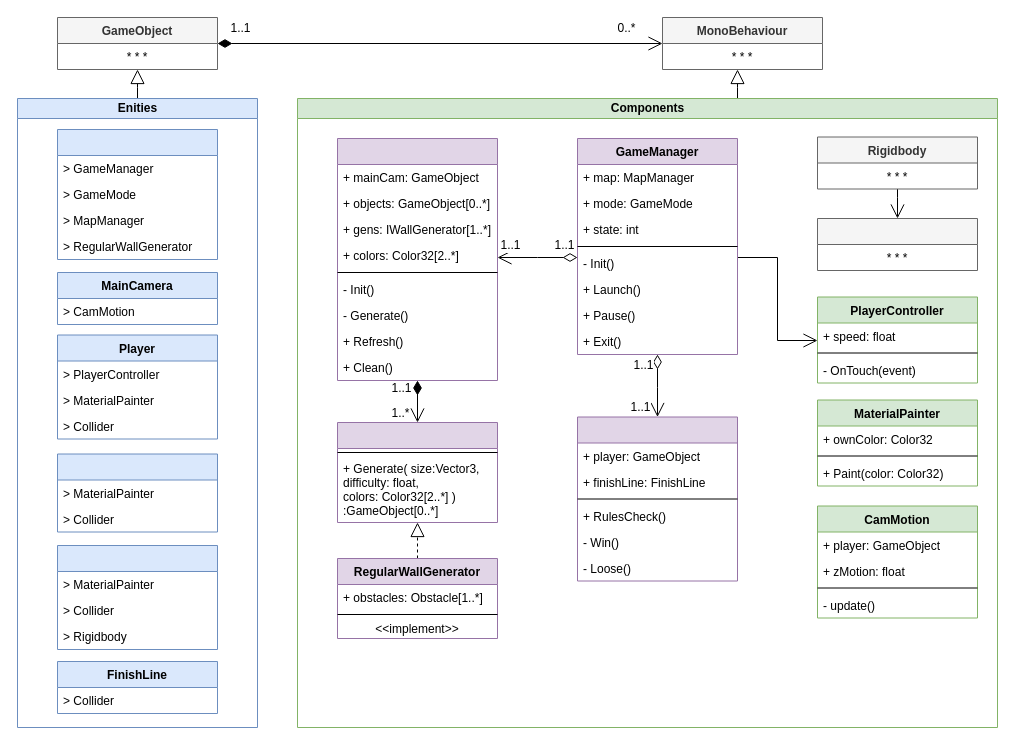
The diagram is 1015 pixels wide and 745 high, and some of its shapes have lost their labels. The shapes that lost their labels are listed below. From the top down, each one's box as (x1, y1, x2, y2) in pixels, then its label:
(56, 128, 218, 260): GameLogic
(336, 138, 498, 380): MapManager
(816, 218, 978, 270): Collider
(336, 422, 498, 522): IWallGenerator
(56, 453, 218, 532): Floor
(576, 416, 738, 581): GameMode
(56, 544, 218, 650): Obstacle
